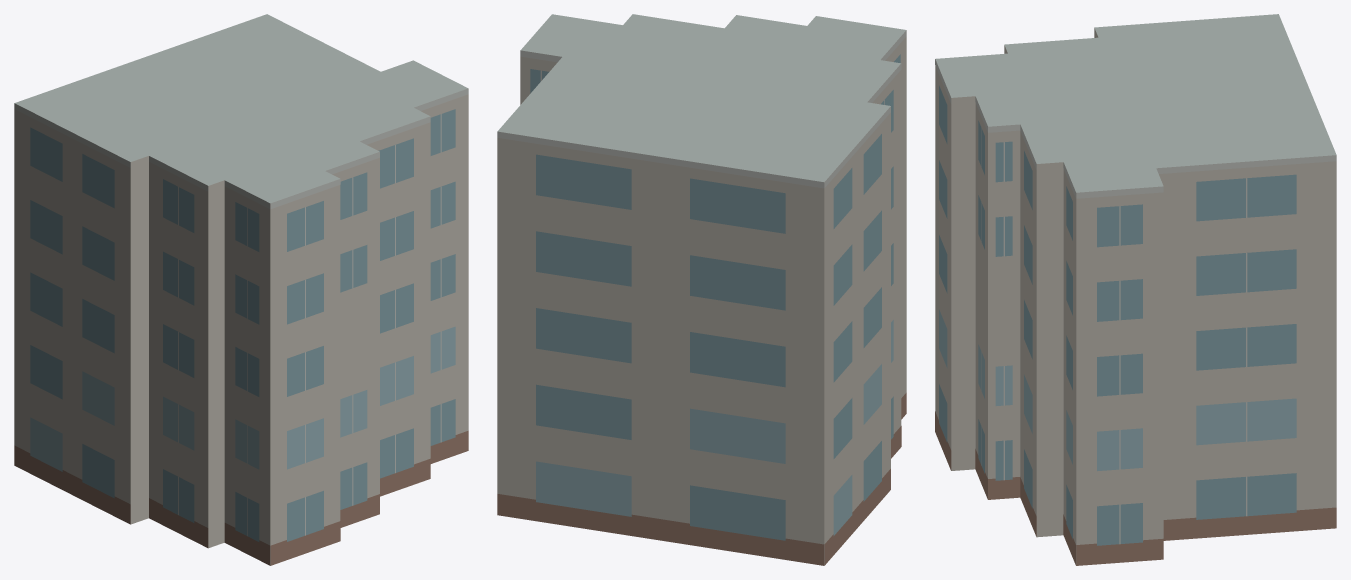
The model's file is survey-upis-32670126.glb.
3 views of the same model, side by side, from view 1: azimuth 30°, elevation 25°; view 2: azimuth 150°, elevation 25°; view 3: azimuth 270°, elevation 25° (orthographic). The views are drawn at different scales.
Visible parts, largest first — view 1: survey-upis-32670126.tmp; view 2: survey-upis-32670126.tmp; view 3: survey-upis-32670126.tmp.
Part boxes in pixels (left/top/right/bottom): survey-upis-32670126.tmp: left=14, top=14, right=468, bottom=565; survey-upis-32670126.tmp: left=497, top=14, right=906, bottom=565; survey-upis-32670126.tmp: left=935, top=14, right=1336, bottom=565.
Size of the model in its own units: 15.42 by 15 by 14.64.
